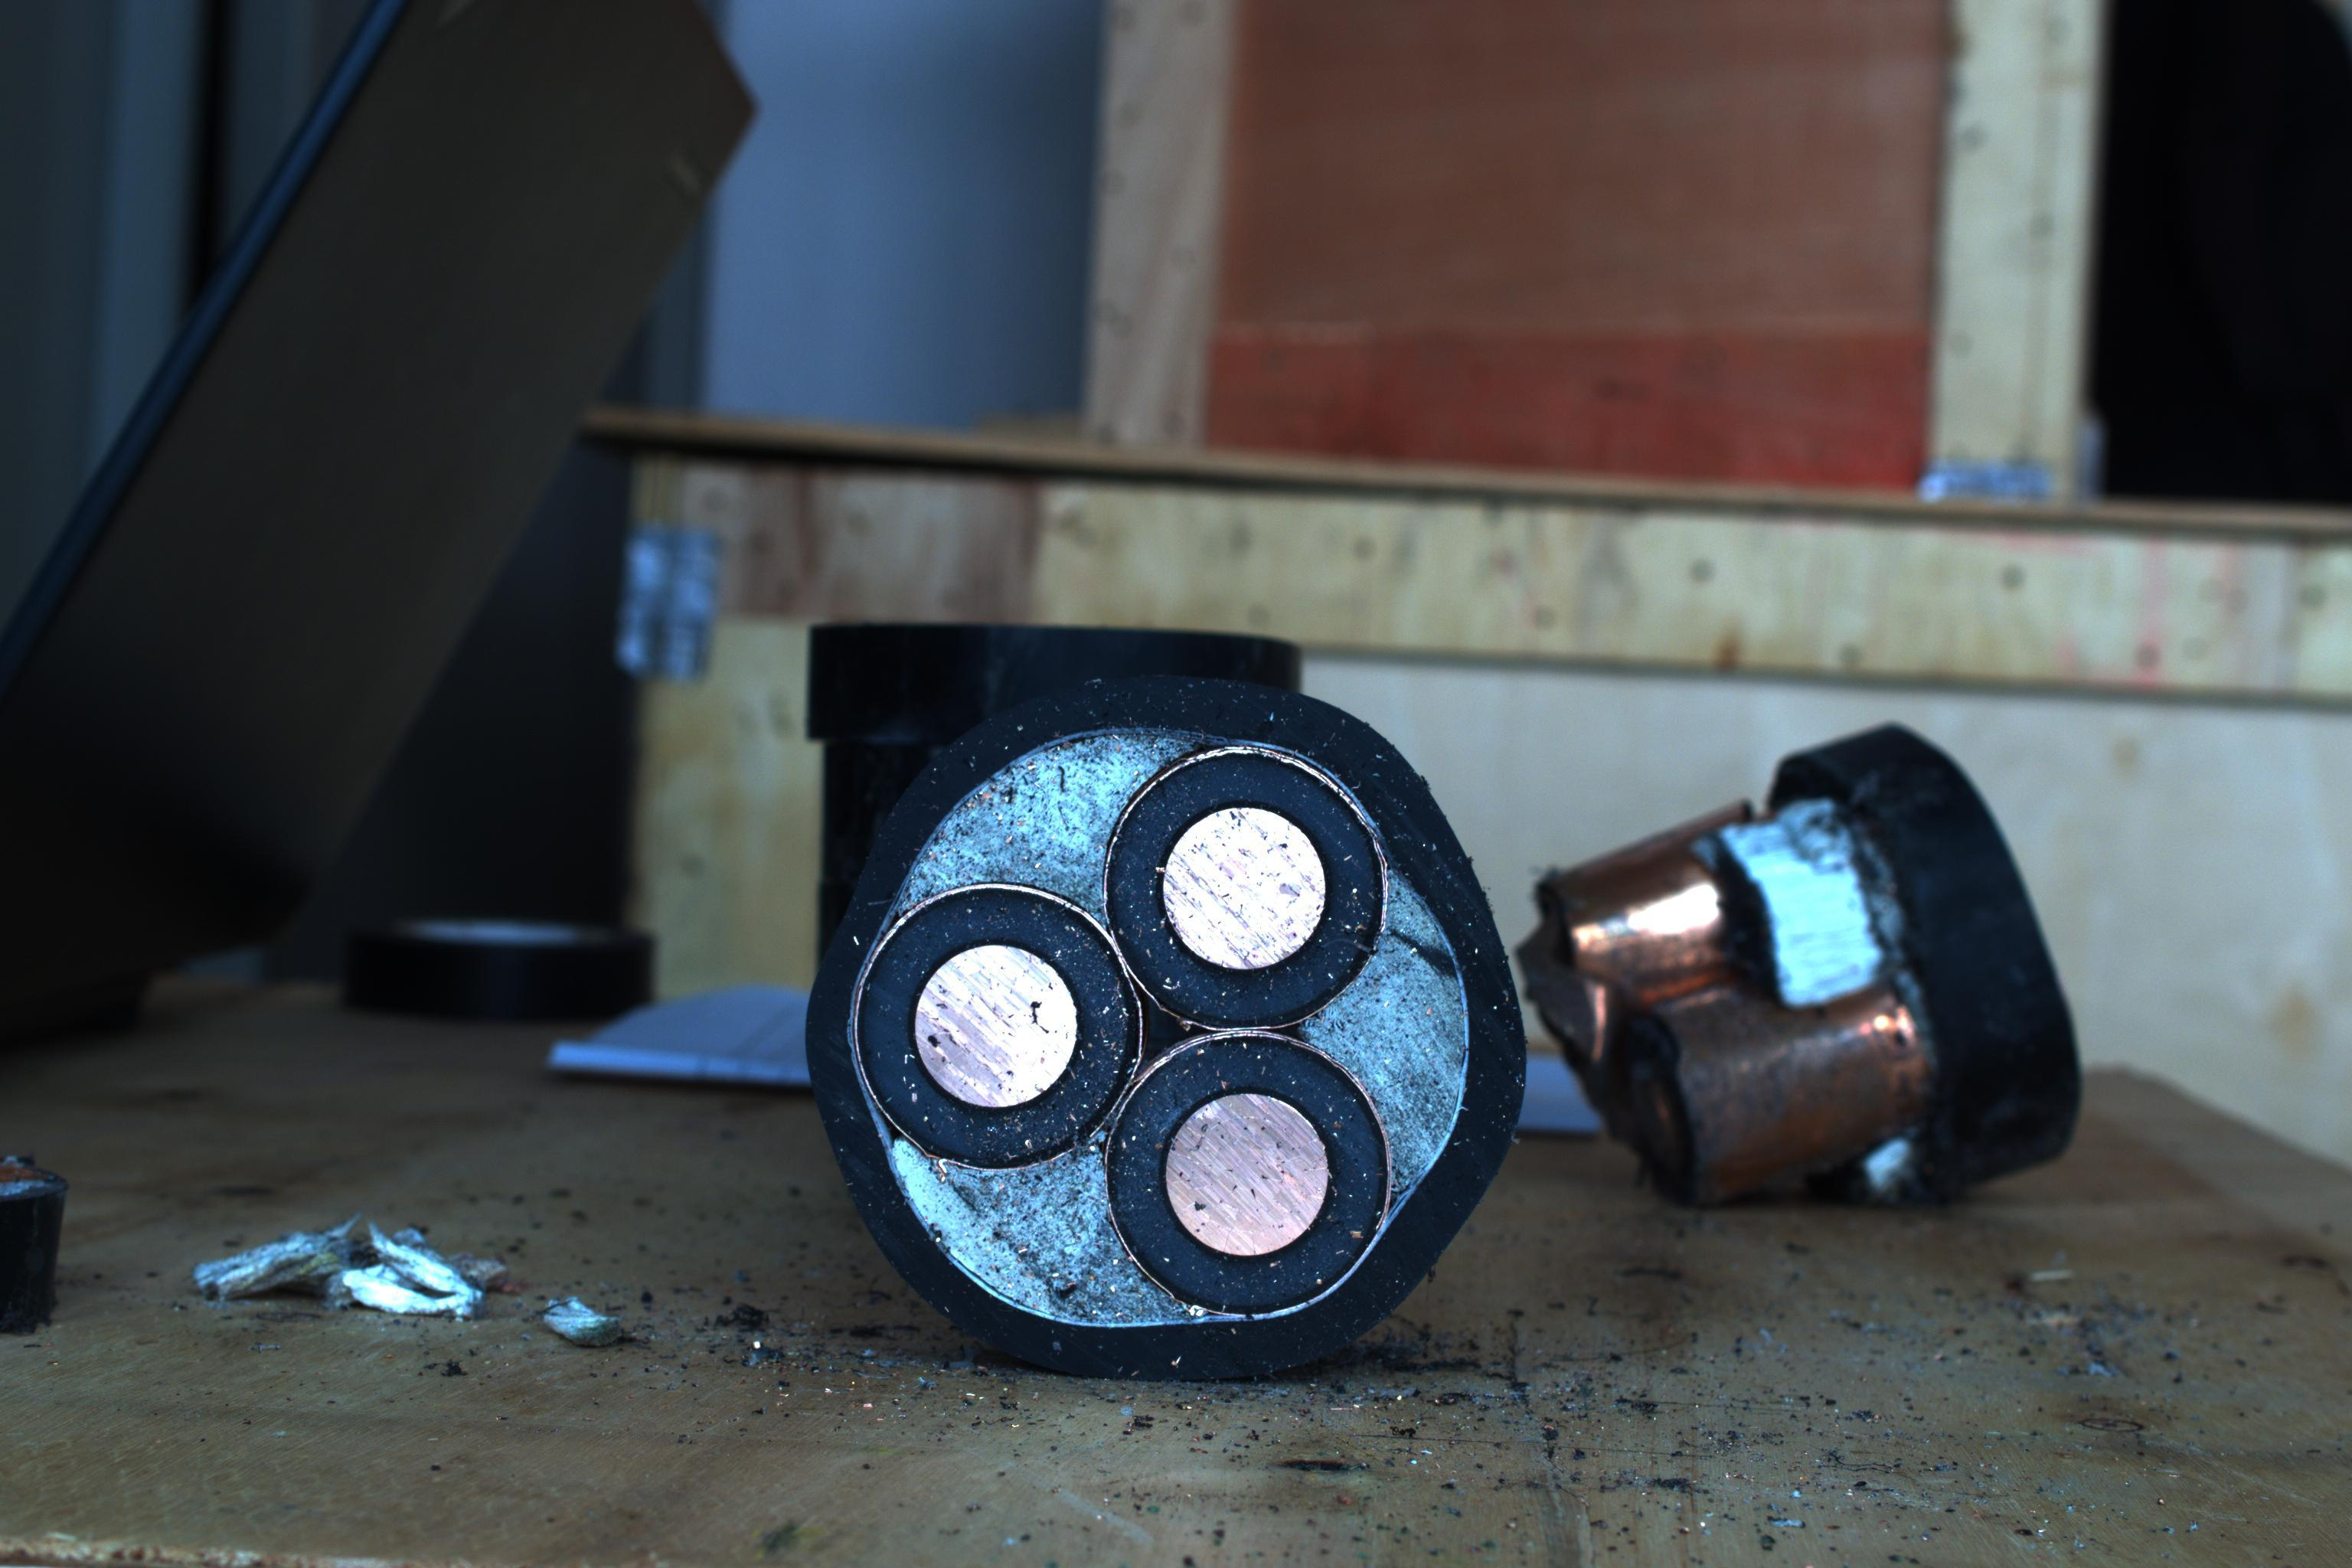ZA_YJV_8.7_10kV_3x240: (835, 682, 1533, 1346)
